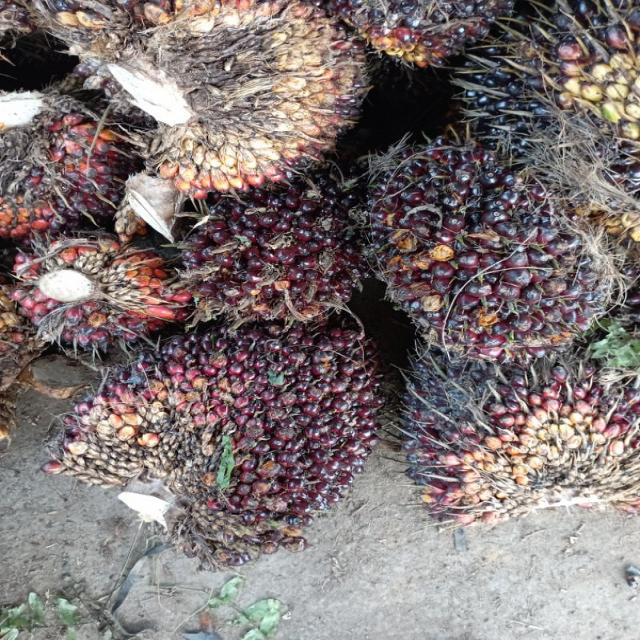fraksi 00: (368, 134, 616, 362), (399, 323, 640, 520)
fraksi 1: (55, 316, 375, 566), (155, 174, 372, 311)
